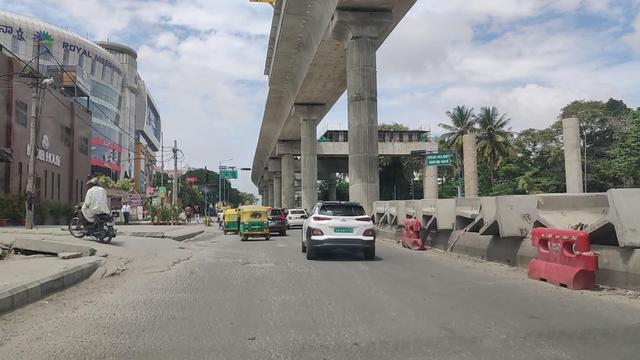LMV: (299, 199, 370, 259), (83, 182, 110, 240), (240, 206, 270, 238)
RoadDamages: (243, 258, 275, 271)
